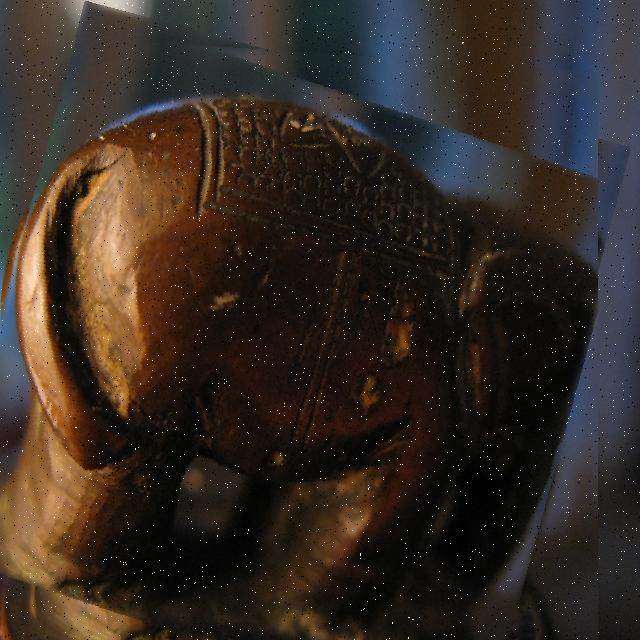elephant: (0, 32, 598, 640)
